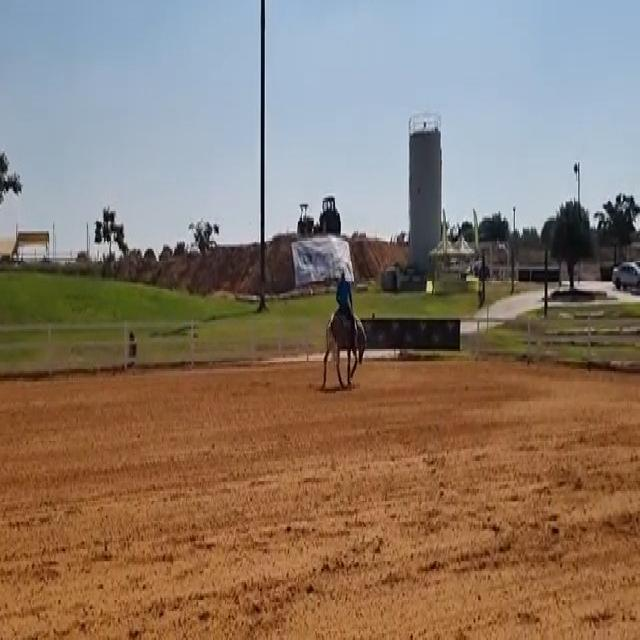horse: (319, 302, 367, 391)
